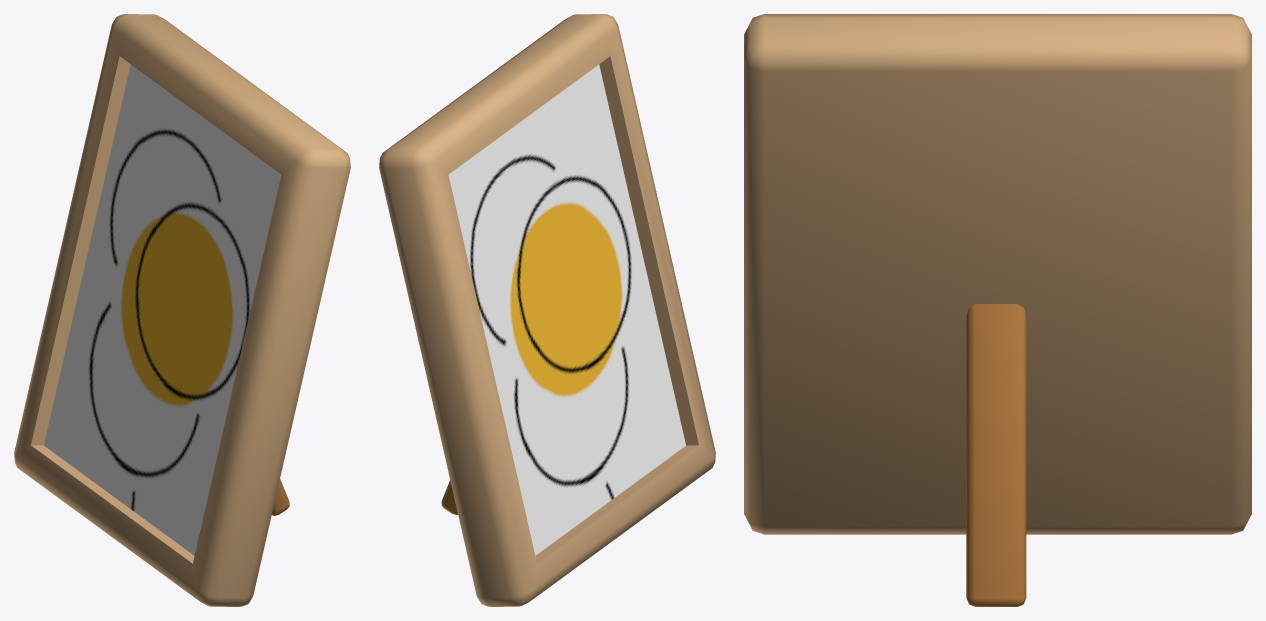
File: Frame03.fbx
3 renders of one model, left to right at view 1: azimuth 30°, elevation 25°; view 2: azimuth 150°, elevation 25°; view 3: azimuth 270°, elevation 25°, orthographic. The views are drawn at different scales.
Parts seen in each view (by area): view 1: Frame03; view 2: Frame03; view 3: Frame03.
Boxes of the visible parts, <box> form: Frame03: <box>14,14,350,606</box>; Frame03: <box>379,14,715,606</box>; Frame03: <box>744,14,1251,606</box>.
Size of the model in its own units: 0.0646 by 0.1291 by 0.1573.
